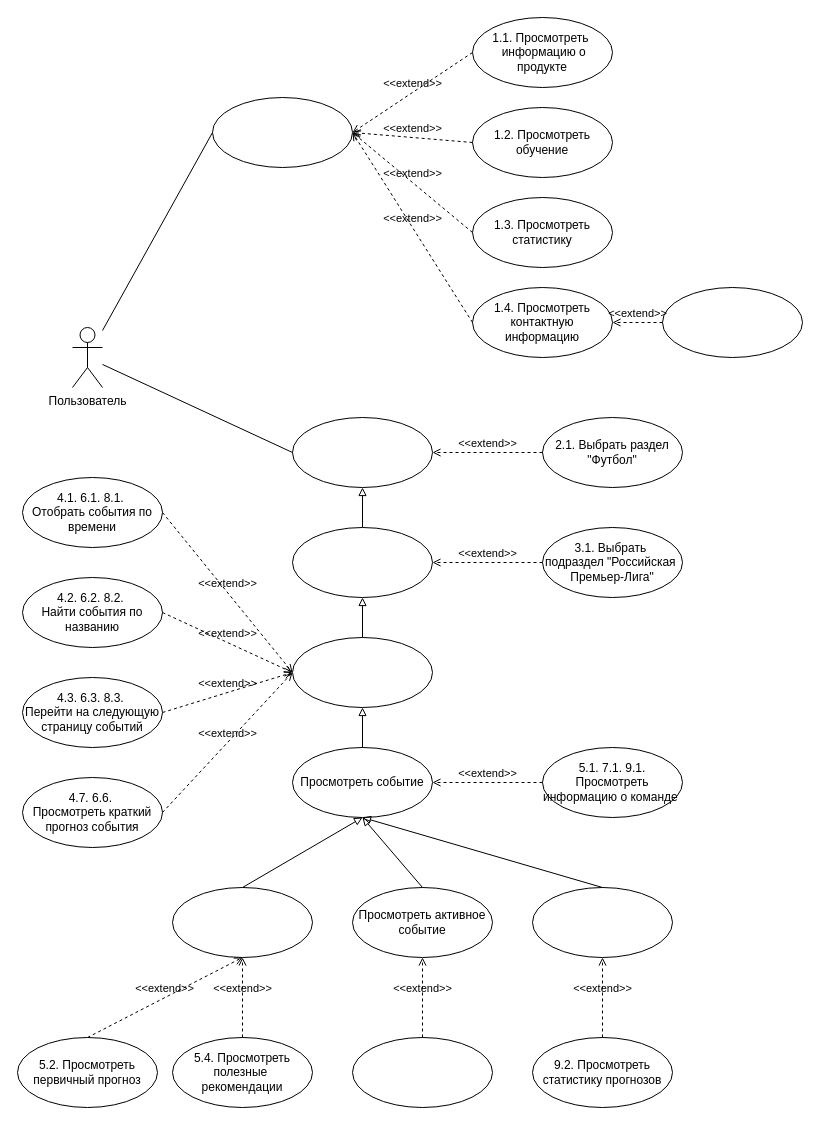
Some shapes in this 820 by 1125 pixel diagram are drawn without their labels. Each missing label, with the centre of its shape:
"7.2. Просмотреть актуальный прогноз" goes at point (422, 1072).
"Выбрать подраздел спортивного состязания" goes at point (362, 562).
"Выбрать раздел спортивных состязаний" goes at point (362, 452).
"Перейти на главную страницу" goes at point (282, 132).
"Предоставить обратную связь" goes at point (732, 322).
"Просмотреть предстоящее событие" goes at point (242, 922).
"Просмотреть прошедшее событие" goes at point (602, 922).
"Просмотреть список событий" goes at point (362, 672).
